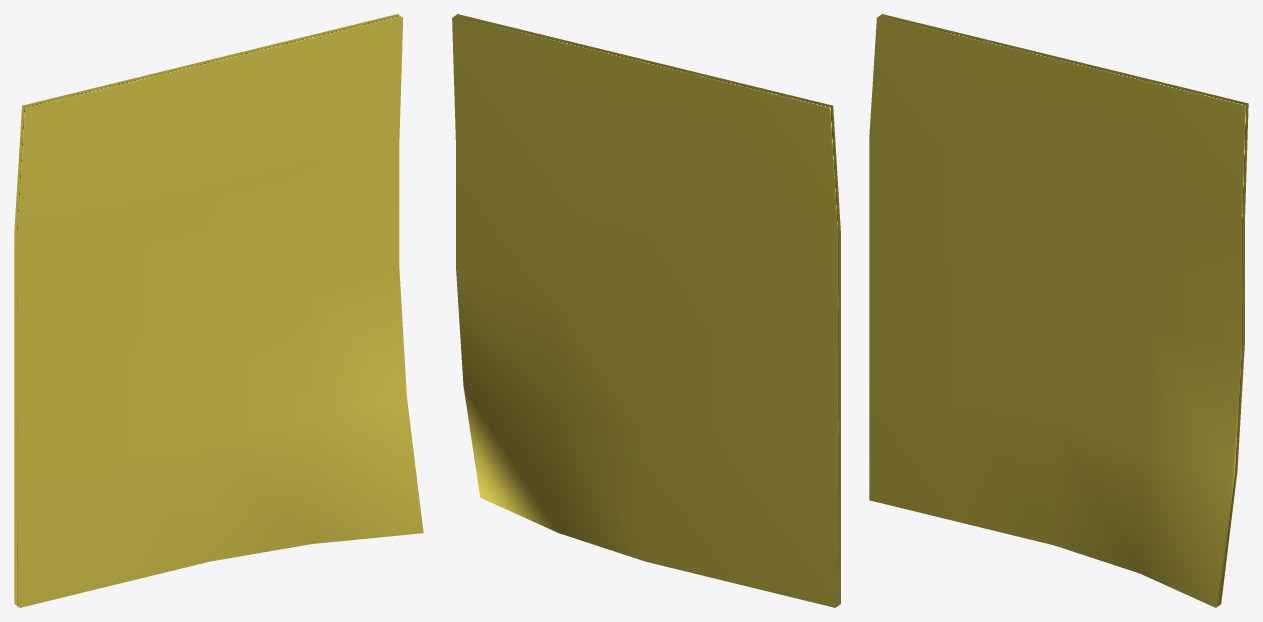
File: Post-It.fbx
3 renders of one model, left to right at view 1: azimuth 30°, elevation 25°; view 2: azimuth 150°, elevation 25°; view 3: azimuth 330°, elevation 25°, orthographic. The views are drawn at different scales.
Visible parts, largest first — view 1: Post-it; view 2: Post-it; view 3: Post-it.
Boxes of the visible parts, x1,y1,x2,y2 form: Post-it: (14, 14, 423, 607); Post-it: (452, 14, 840, 607); Post-it: (869, 14, 1248, 607).
Size of the model in its own units: 8.08 by 10 by 1.09.
